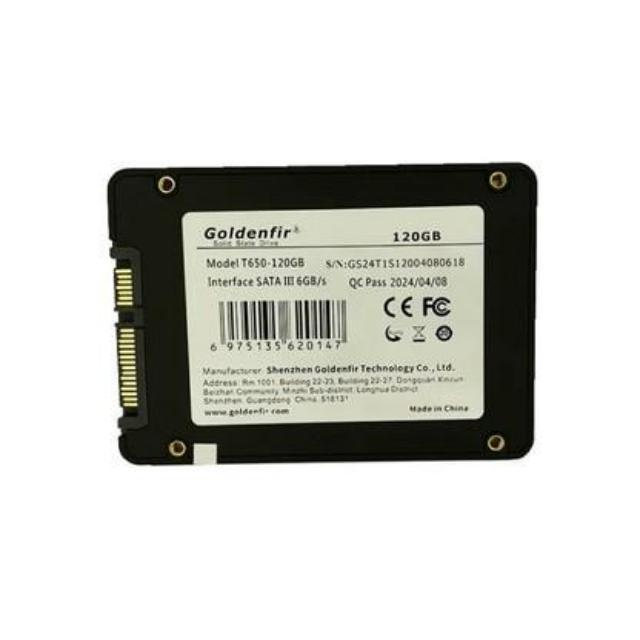DISK: (93, 157, 539, 480)
